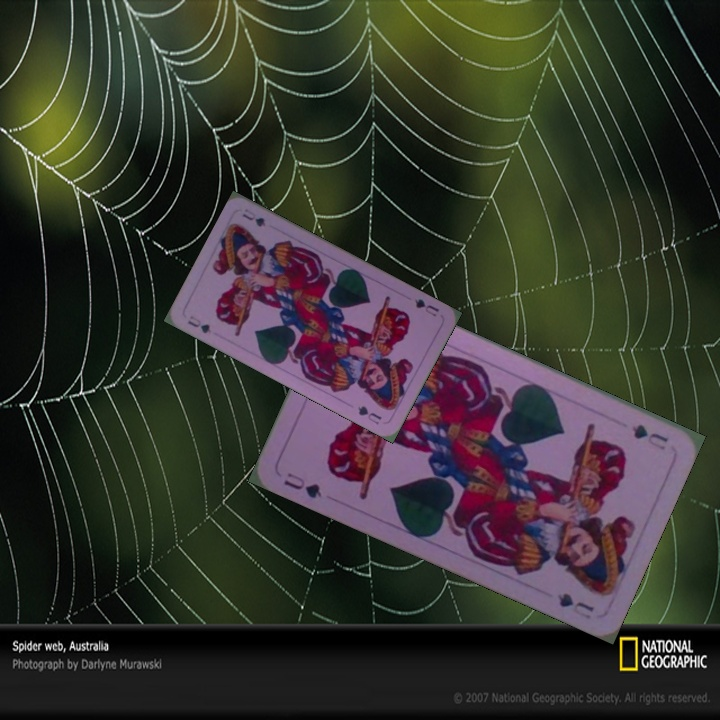GU: (279, 468, 325, 501), (628, 420, 671, 453), (410, 294, 442, 319), (184, 311, 214, 336)
